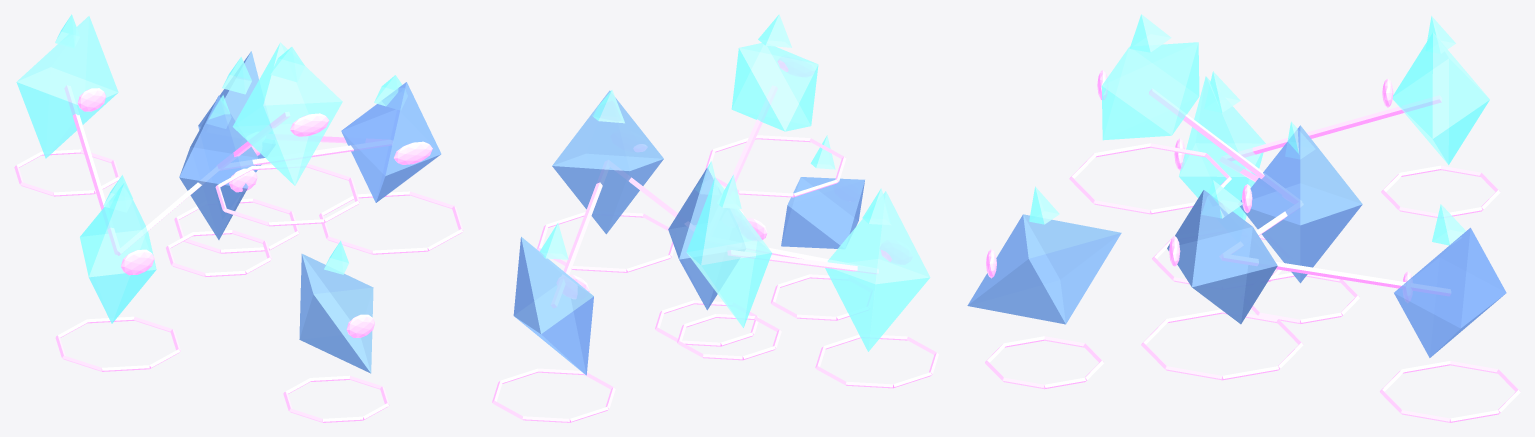
The model's file is 03_nexus_swarmers_cluster.glb.
3 views of the same model, side by side, from view 1: azimuth 30°, elevation 25°; view 2: azimuth 150°, elevation 25°; view 3: azimuth 270°, elevation 25° (orthographic). The views are drawn at different scales.
Parts seen in each view (by area): view 1: nexus_swarmer_crystal_body_3, nexus_swarmer_crystal_body_5, nexus_swarmer_crystal_body_2, nexus_swarmer_crystal_body_6, nexus_swarmer_crystal_body_1, nexus_swarmer_crystal_body_0, swarm_adaptive_link_1_3, nexus_swarmer_crystal_body_4, swarm_adaptive_link_0_2, nexus_swarmer_upper_prism_5, nexus_swarmer_upper_prism_2, swarm_adaptive_link_0_1 (+11 smaller); view 2: nexus_swarmer_crystal_body_1, nexus_swarmer_crystal_body_2, nexus_swarmer_crystal_body_3, nexus_swarmer_crystal_body_4, nexus_swarmer_crystal_body_5, nexus_swarmer_crystal_body_6, nexus_swarmer_crystal_body_0, swarm_adaptive_link_2_4, swarm_adaptive_link_1_3, swarm_adaptive_link_0_5, nexus_swarmer_upper_prism_5, nexus_swarmer_upper_prism_2 (+5 smaller); view 3: nexus_swarmer_crystal_body_6, nexus_swarmer_crystal_body_0, nexus_swarmer_crystal_body_2, nexus_swarmer_crystal_body_5, nexus_swarmer_crystal_body_4, nexus_swarmer_crystal_body_3, nexus_swarmer_crystal_body_1, swarm_adaptive_link_2_4, swarm_adaptive_link_1_3, swarm_adaptive_link_0_5, nexus_swarmer_upper_prism_5, nexus_swarmer_upper_prism_1 (+5 smaller).
Part boxes in pixels (x1,y1,x2,y2): nexus_swarmer_crystal_body_3: (16, 16, 118, 158); nexus_swarmer_crystal_body_5: (232, 42, 342, 185); nexus_swarmer_crystal_body_2: (341, 82, 441, 202); nexus_swarmer_crystal_body_6: (299, 254, 373, 373); nexus_swarmer_crystal_body_1: (80, 183, 156, 323); nexus_swarmer_crystal_body_0: (179, 95, 258, 239); swarm_adaptive_link_1_3: (64, 85, 119, 254); nexus_swarmer_crystal_body_4: (198, 51, 265, 172); swarm_adaptive_link_0_2: (221, 140, 390, 169); nexus_swarmer_upper_prism_5: (270, 47, 304, 82); nexus_swarmer_upper_prism_2: (374, 75, 406, 109); swarm_adaptive_link_0_1: (118, 167, 218, 255); nexus_swarmer_crystal_body_1: (825, 191, 930, 351); nexus_swarmer_crystal_body_2: (552, 90, 663, 234); nexus_swarmer_crystal_body_3: (686, 177, 771, 327); nexus_swarmer_crystal_body_4: (513, 236, 593, 375); nexus_swarmer_crystal_body_5: (731, 43, 818, 131); nexus_swarmer_crystal_body_6: (781, 177, 864, 248); nexus_swarmer_crystal_body_0: (668, 167, 717, 310); swarm_adaptive_link_2_4: (551, 161, 609, 307); swarm_adaptive_link_1_3: (727, 250, 878, 273); swarm_adaptive_link_0_5: (729, 85, 777, 182); nexus_swarmer_upper_prism_5: (758, 14, 791, 47); nexus_swarmer_upper_prism_2: (592, 90, 624, 123); nexus_swarmer_crystal_body_6: (967, 214, 1121, 324); nexus_swarmer_crystal_body_0: (1240, 125, 1362, 283); nexus_swarmer_crystal_body_2: (1167, 190, 1277, 324); nexus_swarmer_crystal_body_5: (1101, 42, 1199, 140); nexus_swarmer_crystal_body_4: (1394, 227, 1506, 357); nexus_swarmer_crystal_body_3: (1392, 32, 1489, 164); nexus_swarmer_crystal_body_1: (1179, 76, 1265, 220); swarm_adaptive_link_2_4: (1222, 254, 1450, 295); swarm_adaptive_link_1_3: (1221, 95, 1441, 161); swarm_adaptive_link_0_5: (1149, 88, 1301, 203); nexus_swarmer_upper_prism_5: (1129, 14, 1171, 52); nexus_swarmer_upper_prism_1: (1204, 71, 1240, 112).
Bounding box in the file's own units: 1.59 × 1.24 × 1.77.
